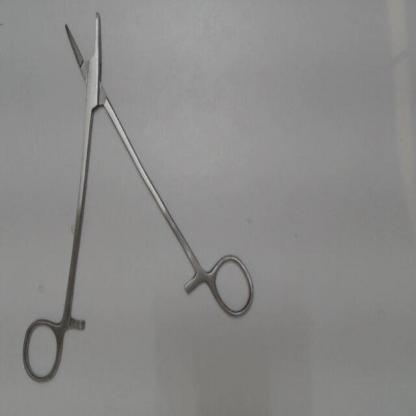8 Mayo Needle Holder: (13, 4, 261, 396)
